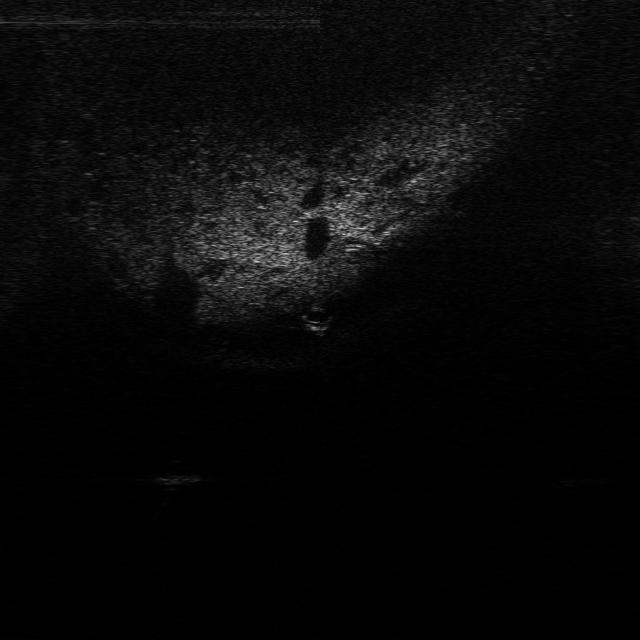ball: (294, 304, 336, 329)
cube: (142, 457, 203, 489)
